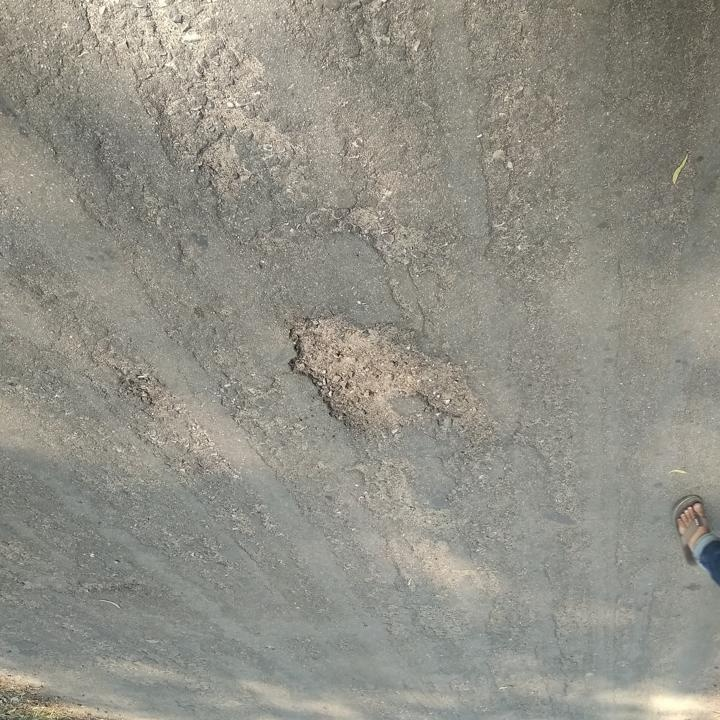pothole: (280, 309, 491, 441)
